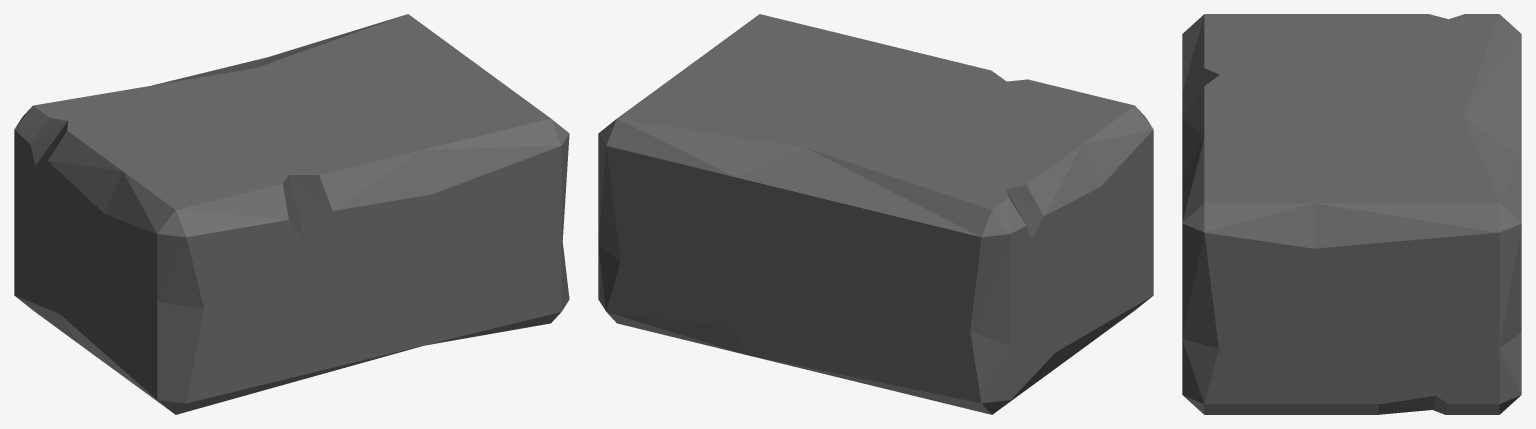
The model's file is stoneblock.glb.
3 views of the same model, side by side, from view 1: azimuth 30°, elevation 25°; view 2: azimuth 150°, elevation 25°; view 3: azimuth 270°, elevation 25° (orthographic). The views are drawn at different scales.
Parts seen in each view (by area): view 1: SM_Prop_StoneBlock_01; view 2: SM_Prop_StoneBlock_01; view 3: SM_Prop_StoneBlock_01.
Part boxes in pixels (<box>): SM_Prop_StoneBlock_01: <box>14,14,569,414</box>; SM_Prop_StoneBlock_01: <box>598,14,1153,414</box>; SM_Prop_StoneBlock_01: <box>1182,14,1521,414</box>.
Size of the model in its own units: 68.61 by 32.58 by 47.33.
1 material, 1 textured.
